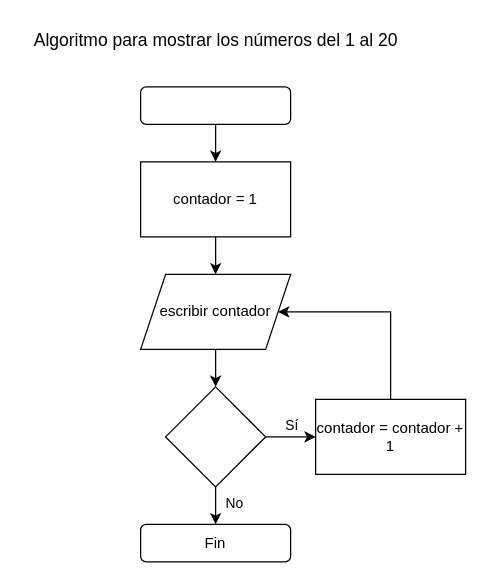
This 488x584 diagram has some shape labels left out. The shapes that lost their labels are listed below. From the top down, each one's centre as x and y in pixels, then its label:
the point at 215,105: Inicio
the point at 215,436: ¿contador < 20?
